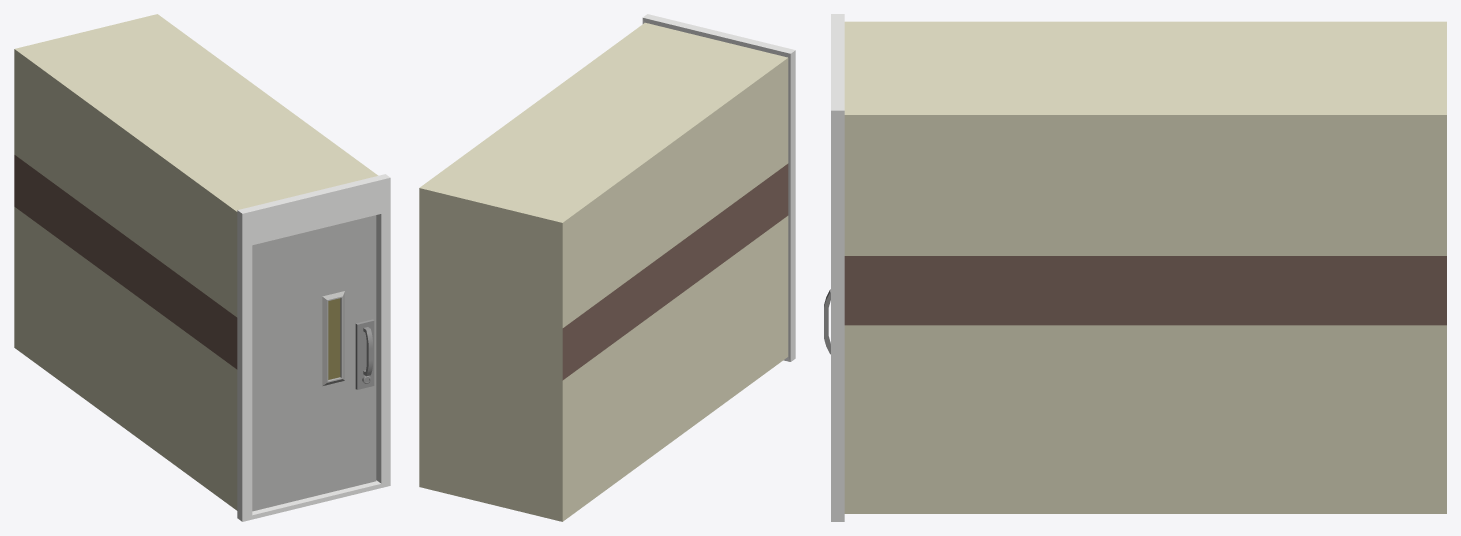
File: Staffdoor_Dating.fbx
The picture shows the model from 3 angles, left to right: view 1: azimuth 30°, elevation 25°; view 2: azimuth 150°, elevation 25°; view 3: azimuth 270°, elevation 25°; orthographic projection. The views are drawn at different scales.
Parts seen in each view (by area): view 1: pasted__BlackRoom, Door1; view 2: pasted__BlackRoom; view 3: pasted__BlackRoom.
Part boxes in pixels (x1,y1,x2,y2): pasted__BlackRoom: (14,14,390,521); Door1: (252,215,376,511); pasted__BlackRoom: (419,14,795,521); pasted__BlackRoom: (831,14,1446,521).
Size of the model in its own units: 186 by 369 by 507.
